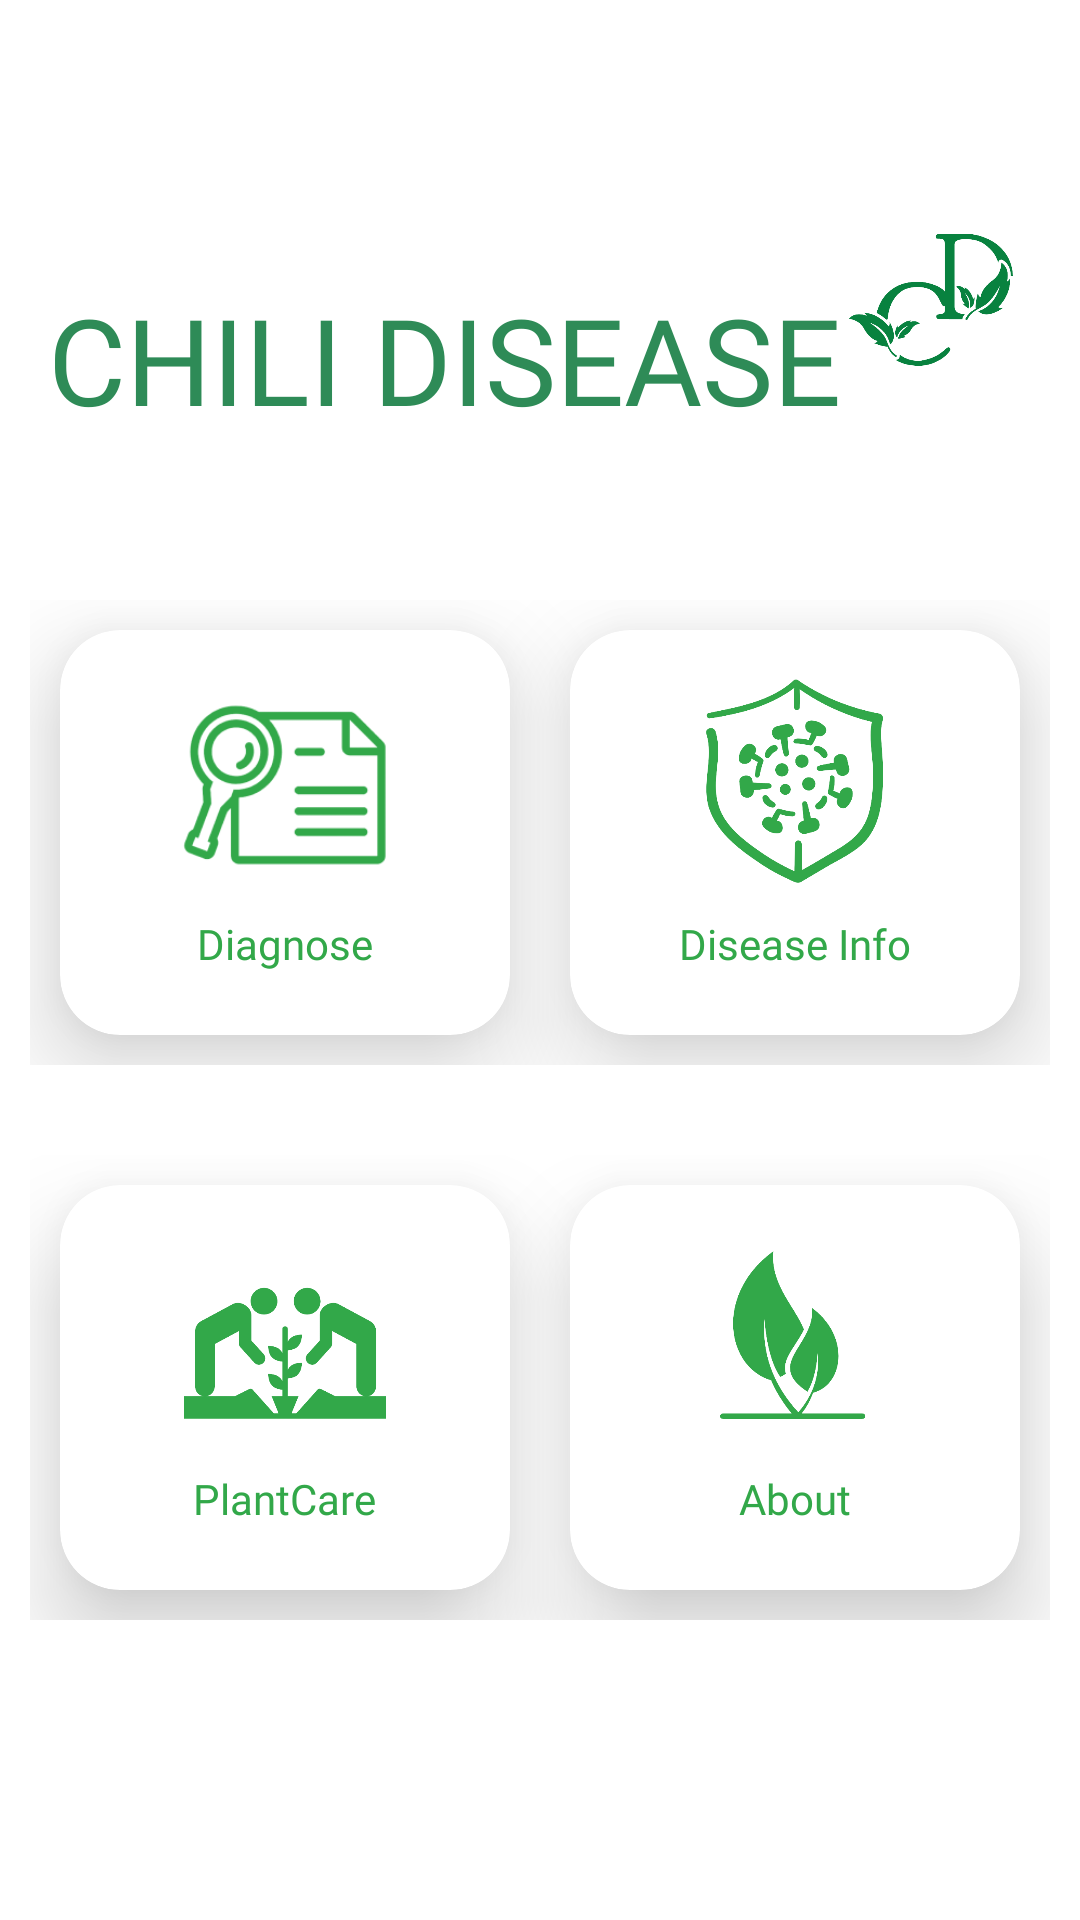

Screen size 1080px×1920px. Icon name, then its box in pixels as (x1, y1, x2, y2):
perawatan: (184, 1288, 386, 1419)
